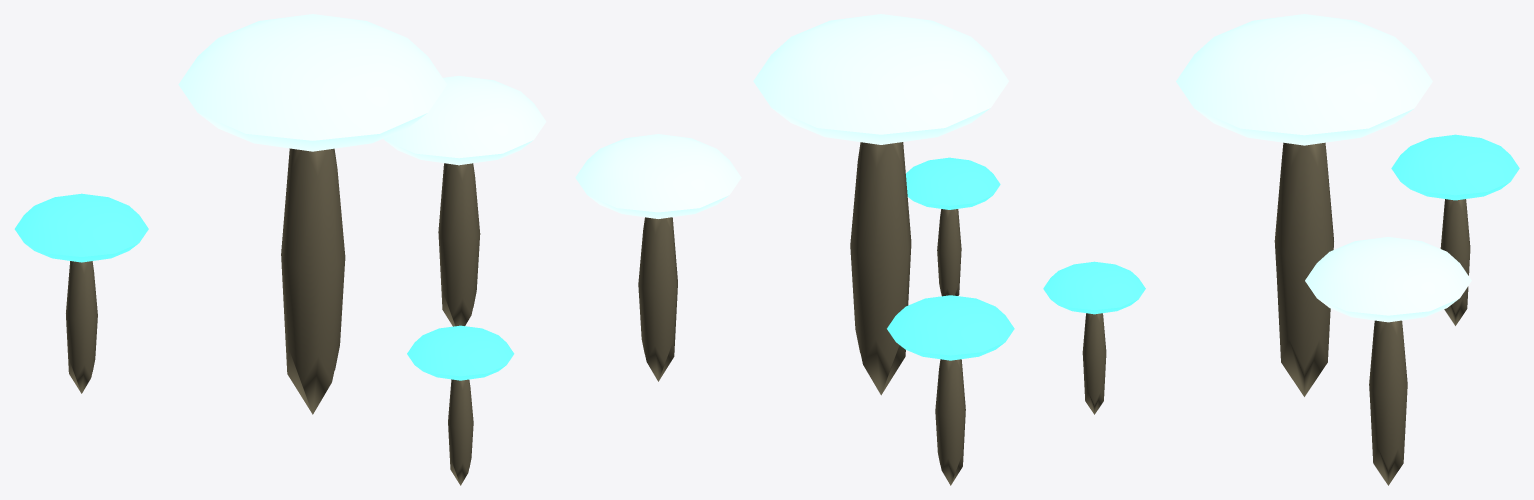
Rendered from CogumeloFatuo.fbx.
3 views of the same model, side by side, from view 1: azimuth 30°, elevation 25°; view 2: azimuth 150°, elevation 25°; view 3: azimuth 270°, elevation 25° (orthographic). The views are drawn at different scales.
Parts seen in each view (by area): view 1: CogumeloFatuo; view 2: CogumeloFatuo; view 3: CogumeloFatuo.
Boxes of the visible parts, x1,y1,x2,y2 form: CogumeloFatuo: [14, 14, 546, 485]; CogumeloFatuo: [575, 14, 1014, 485]; CogumeloFatuo: [1043, 14, 1519, 485].
Bounding box in the file's own units: 0.6243 × 0.4789 × 0.5678.
